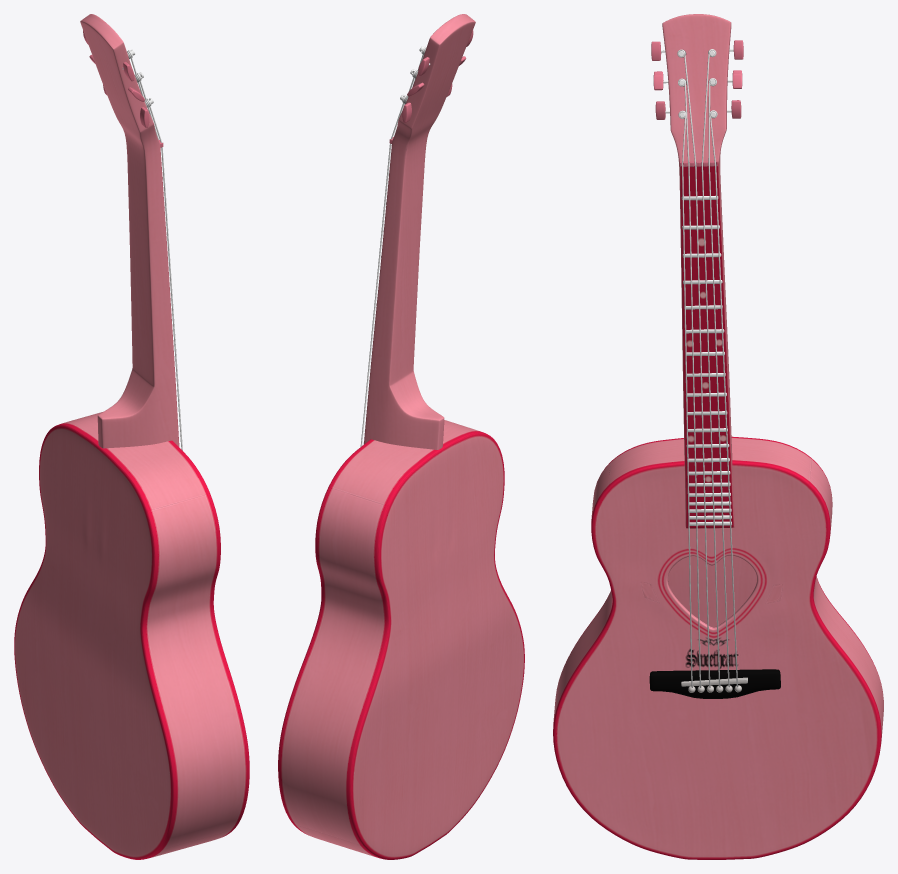
The model's file is pink_heart_acoustic_guitar.glb.
3 views of the same model, side by side, from view 1: azimuth 30°, elevation 25°; view 2: azimuth 150°, elevation 25°; view 3: azimuth 270°, elevation 25° (orthographic). The views are drawn at different scales.
Parts seen in each view (by area): view 1: base, grif, strings, pink_plastic; view 2: base, grif, strings, pink_plastic; view 3: base, grif, strings, metal, dark_wood, pink_plastic, white_plastic.
Boxes of the visible parts, <box> form: base: <box>14,412,249,859</box>; grif: <box>80,14,179,448</box>; strings: <box>127,50,182,450</box>; pink_plastic: <box>83,30,163,147</box>; base: <box>278,420,524,859</box>; grif: <box>364,14,475,449</box>; strings: <box>360,46,426,446</box>; pink_plastic: <box>389,30,473,143</box>; base: <box>553,436,883,859</box>; grif: <box>662,14,734,528</box>; strings: <box>677,49,738,687</box>; metal: <box>661,49,733,525</box>; dark_wood: <box>649,669,780,698</box>; pink_plastic: <box>651,40,743,166</box>; white_plastic: <box>681,677,747,692</box>.
Bounding box in the file's own units: 0.1158 × 0.9179 × 0.3396.
Materials: 1 (1 with a texture image).
